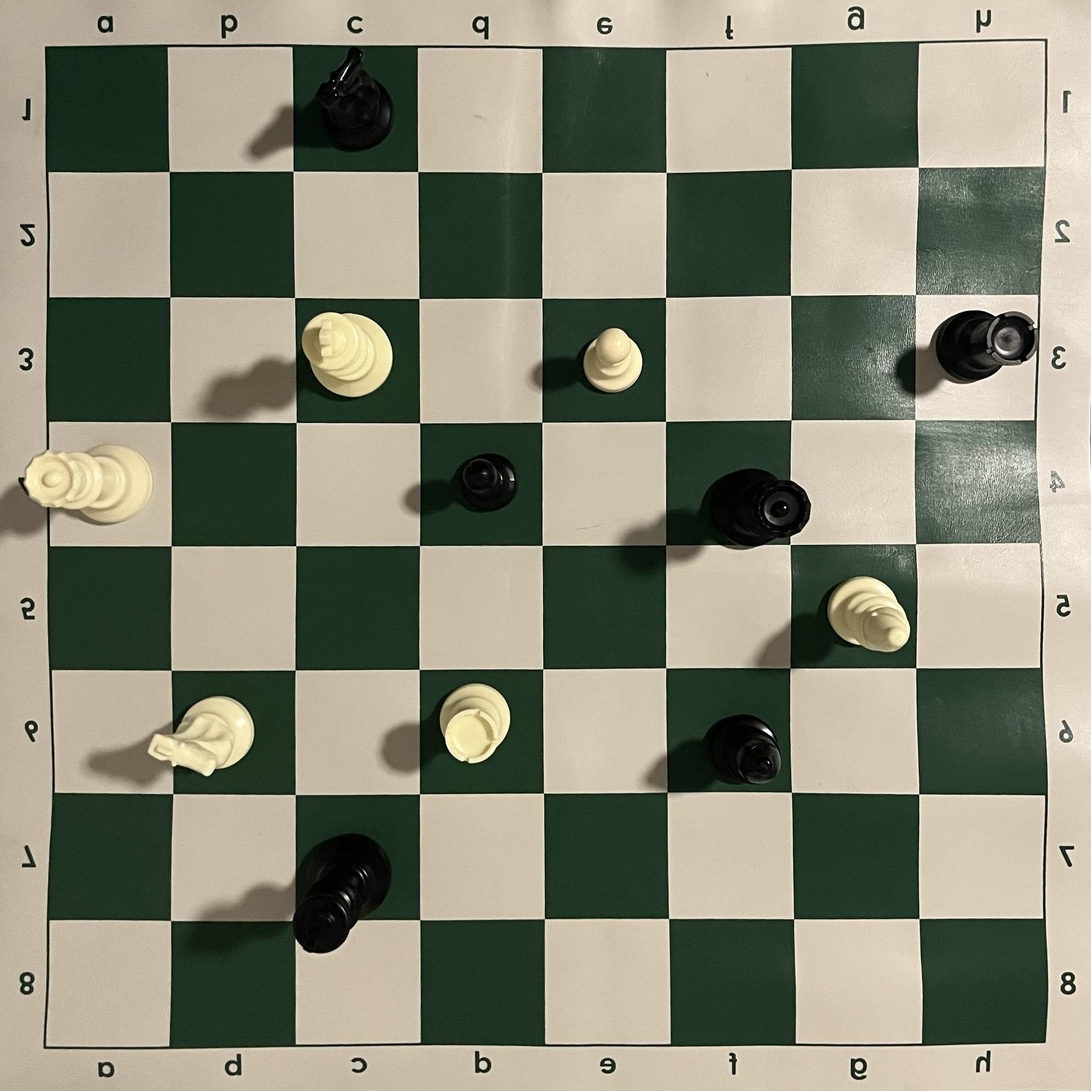black_bishop: (700, 713, 783, 787)
black_king: (291, 831, 393, 956)
black_knight: (313, 46, 396, 151)
black_pawn: (452, 452, 520, 514)
black_queen: (698, 467, 812, 549)
black_rook: (932, 308, 1039, 385)
white_bishop: (826, 575, 912, 655)
white_king: (300, 310, 395, 399)
white_knight: (146, 694, 257, 778)
white_pawn: (581, 327, 644, 394)
white_queen: (19, 444, 154, 526)
white_rook: (438, 682, 512, 766)
